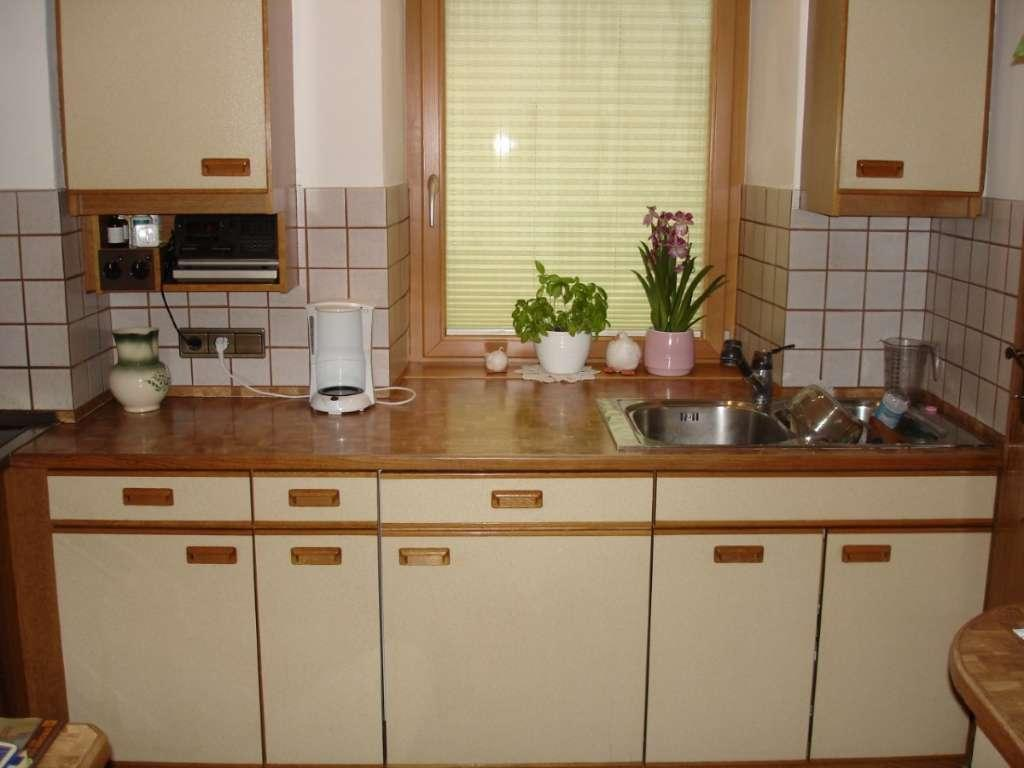cabinet_door: (383, 541, 648, 768), (62, 534, 256, 768), (67, 1, 270, 192), (650, 538, 813, 766), (824, 533, 979, 760), (257, 537, 379, 766), (846, 0, 991, 192), (652, 476, 997, 527), (382, 481, 649, 529), (48, 476, 250, 525), (253, 480, 379, 528)
handle: (839, 541, 897, 569), (180, 542, 240, 569), (393, 544, 454, 570), (286, 542, 344, 569), (849, 154, 906, 181), (286, 484, 343, 511), (117, 484, 179, 508), (712, 540, 771, 565), (486, 487, 544, 512), (199, 154, 251, 181)
